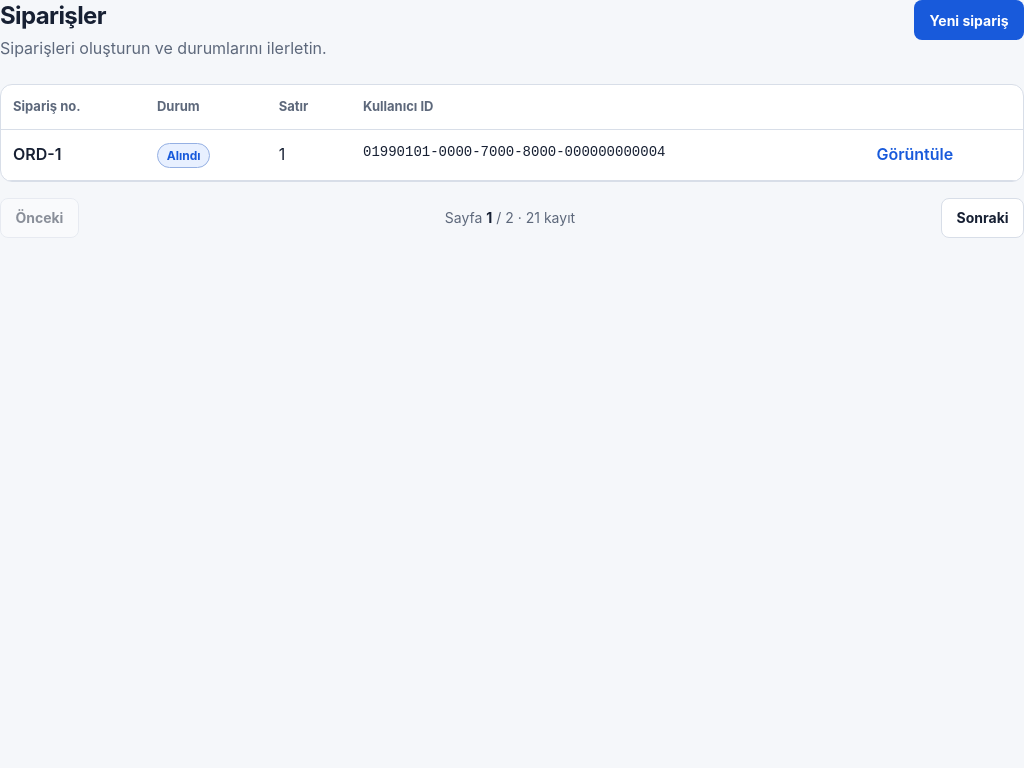
Test: order use cases › renders a failed placement with translated and original details
expect the text "ORD-1" is shown: met, box [1,129,145,180]
Click the button "Yeni sipariş" at coordinates (969, 20), box [914,0,1023,40]
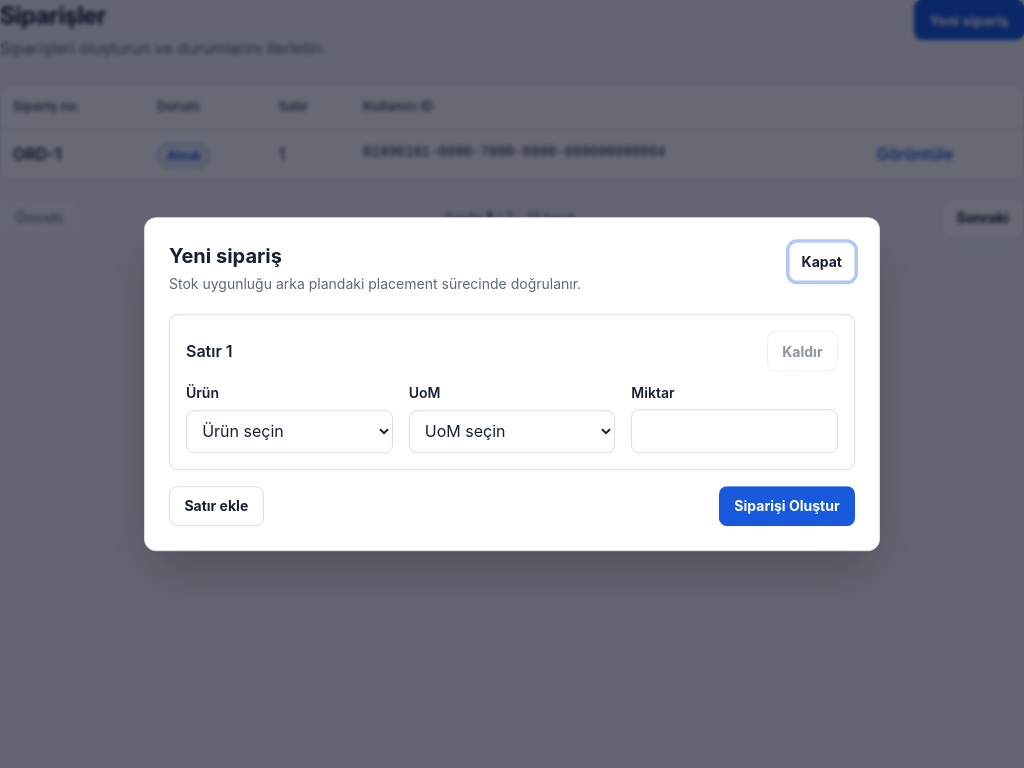
Select "SKU — Ürün" in the dropdown labelled "Ürün" at coordinates (289, 431), box [186,410,393,453]
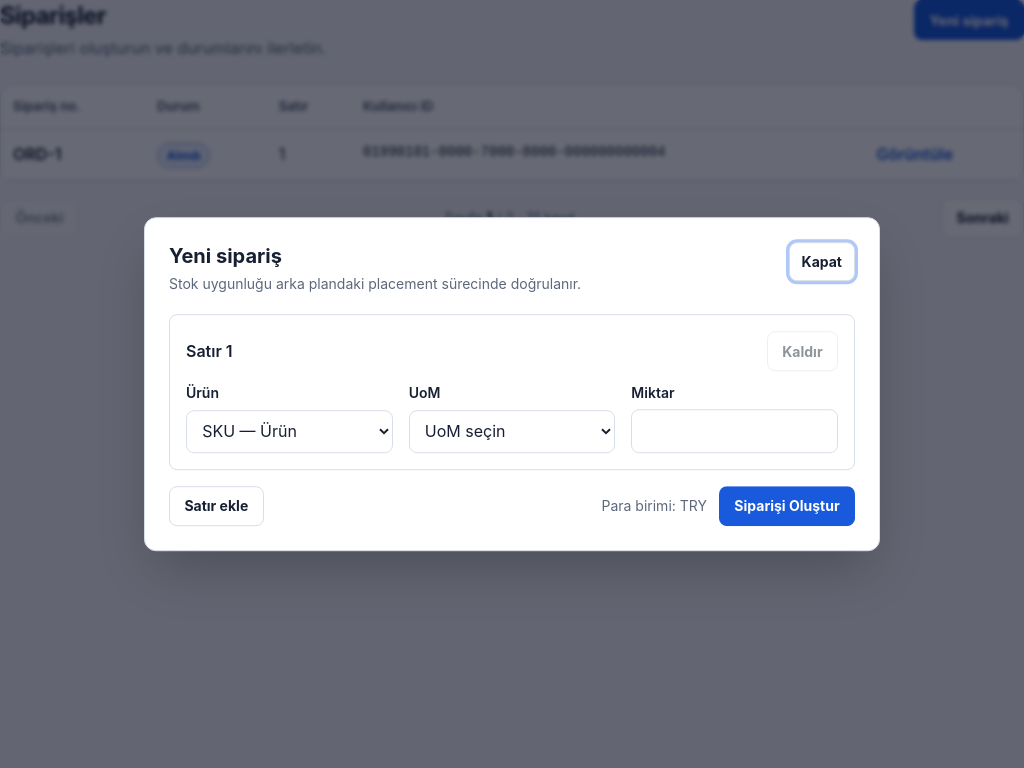
Type "2" into the number field labelled "Miktar" at coordinates (735, 431), box [631,409,838,453]
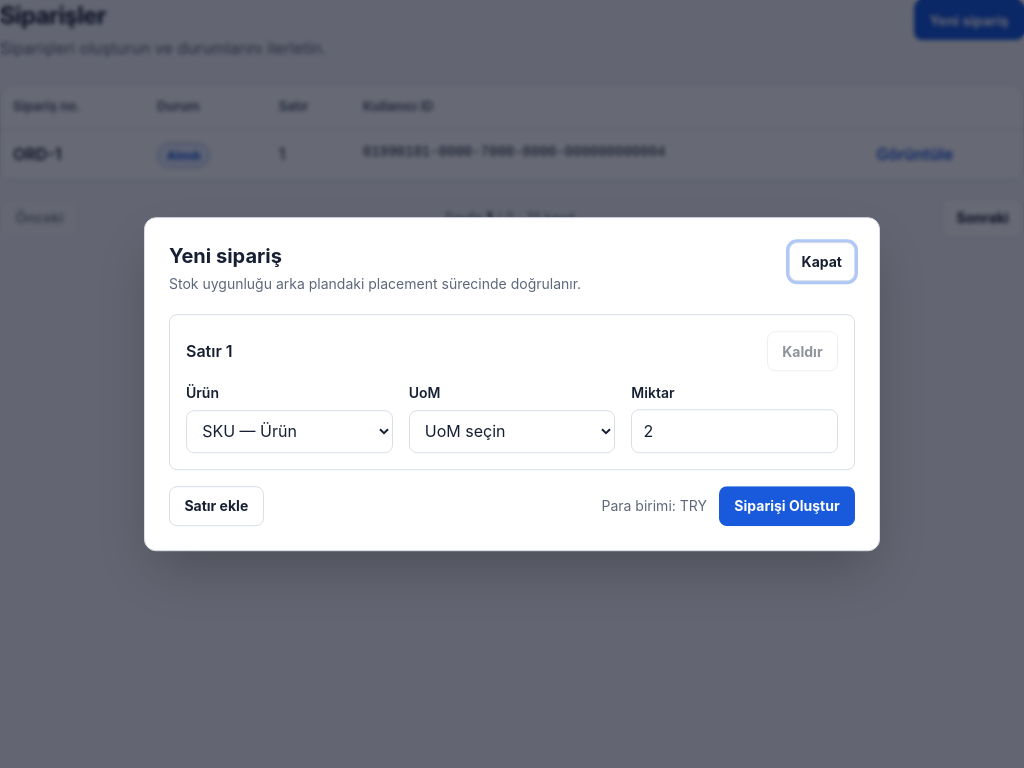
Click the button "Siparişi Oluştur" at coordinates (787, 506), box [719,486,855,526]
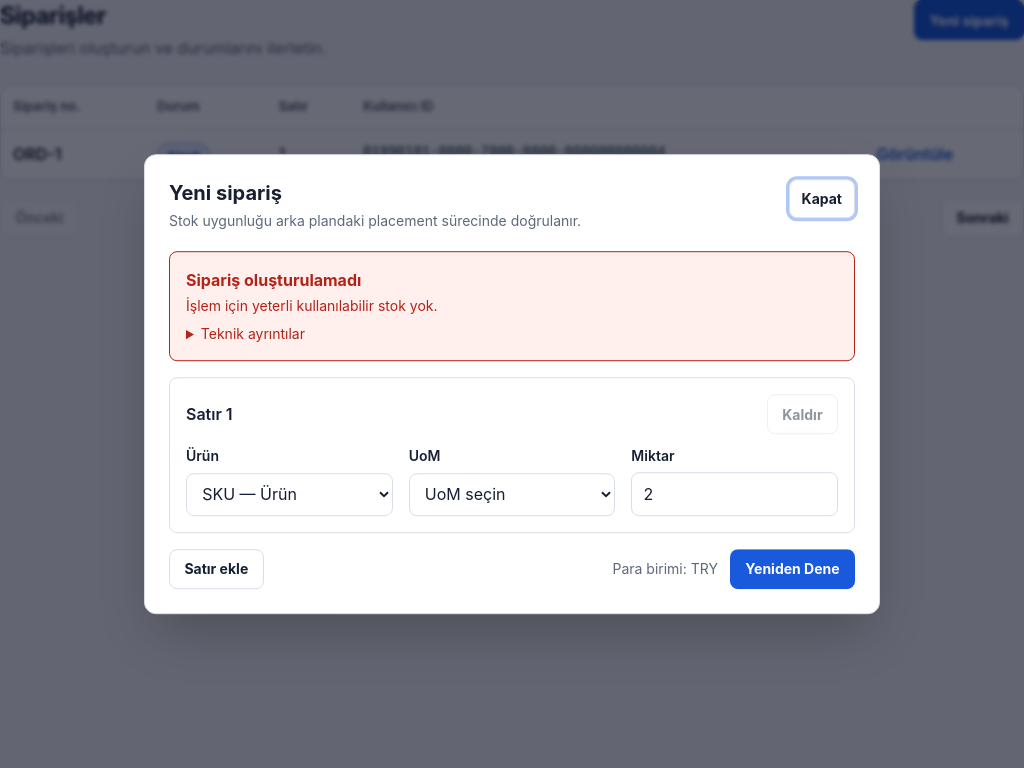
expect the heading "Sipariş oluşturulamadı" is shown: met, box [186,270,361,290]
expect the text "İşlem için yeterli kullanılabilir stok yok." is shown: met, box [186,297,438,314]
